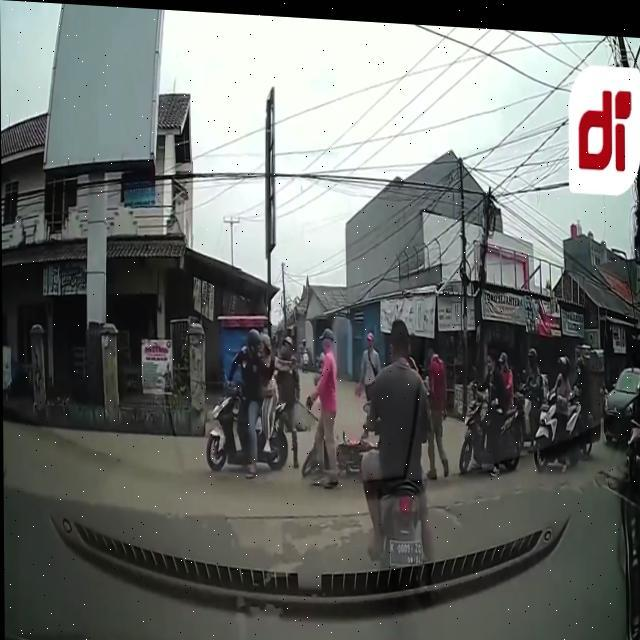single accident: (293, 402, 388, 495), (300, 127, 322, 155)
